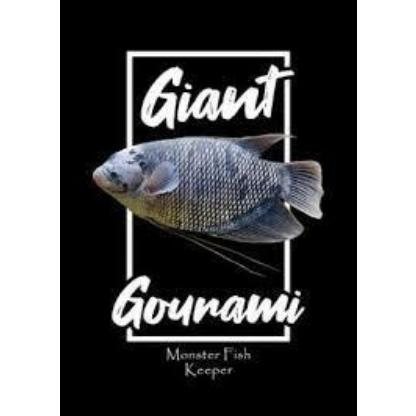gurame: (89, 134, 326, 242)
